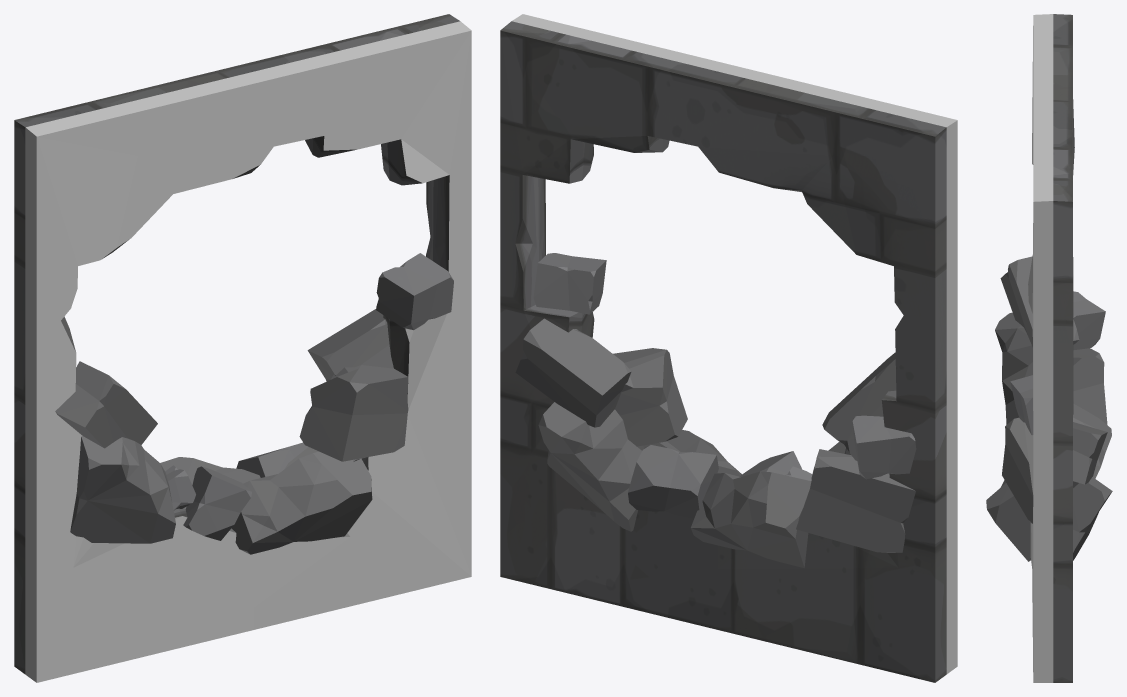
Rendered from SM_Bld_Wall_L_Damaged_03.fbx.
3 views of the same model, side by side, from view 1: azimuth 30°, elevation 25°; view 2: azimuth 150°, elevation 25°; view 3: azimuth 270°, elevation 25° (orthographic). The views are drawn at different scales.
Visible parts, largest first — view 1: SM_Bld_Wall_L_Damaged_03; view 2: SM_Bld_Wall_L_Damaged_03; view 3: SM_Bld_Wall_L_Damaged_03.
Part boxes in pixels (x1,y1,x2,y2): SM_Bld_Wall_L_Damaged_03: (14, 14, 471, 682); SM_Bld_Wall_L_Damaged_03: (500, 14, 957, 682); SM_Bld_Wall_L_Damaged_03: (986, 14, 1112, 682).
Size of the model in its own units: 500 by 601 by 143.
